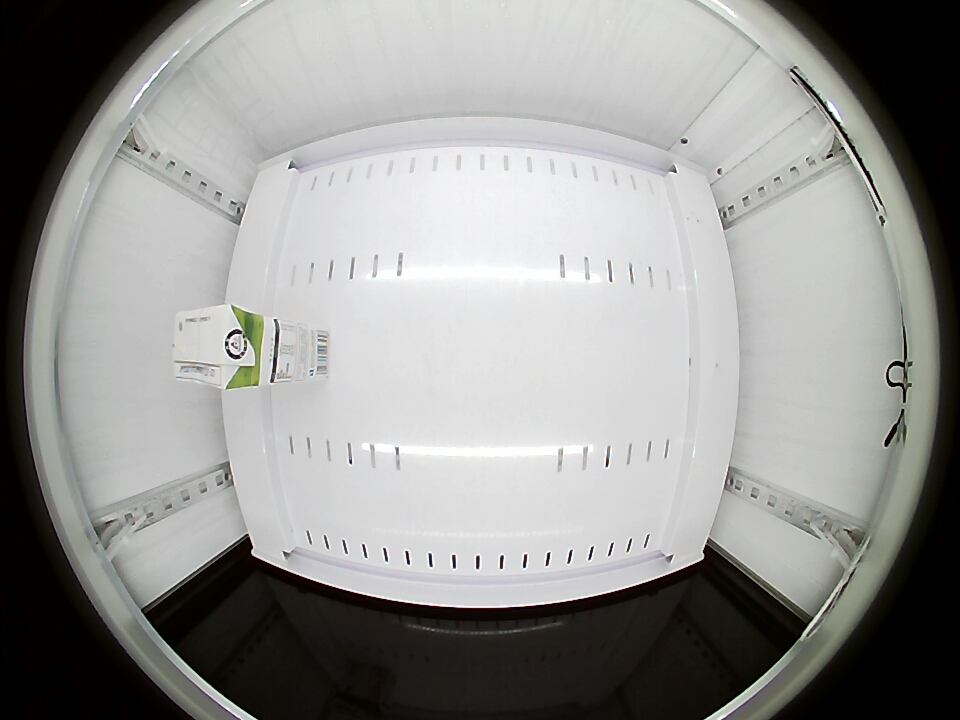mengniu: (173, 303, 257, 390)
